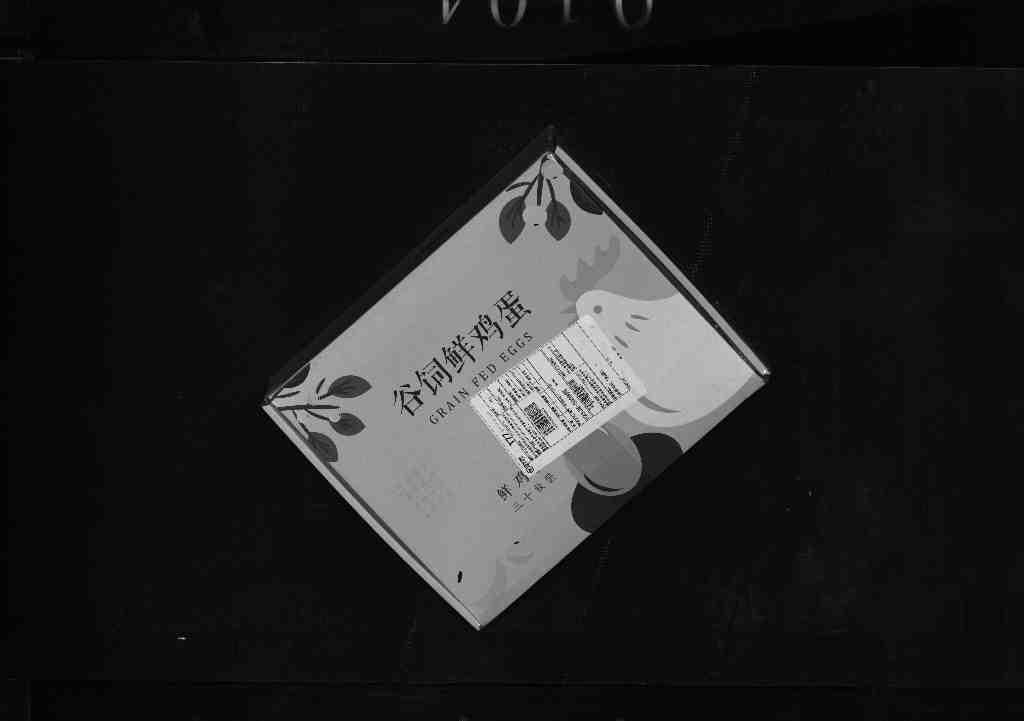box: (246, 115, 772, 635)
